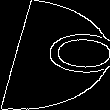O_W: (6, 29, 104, 81)
